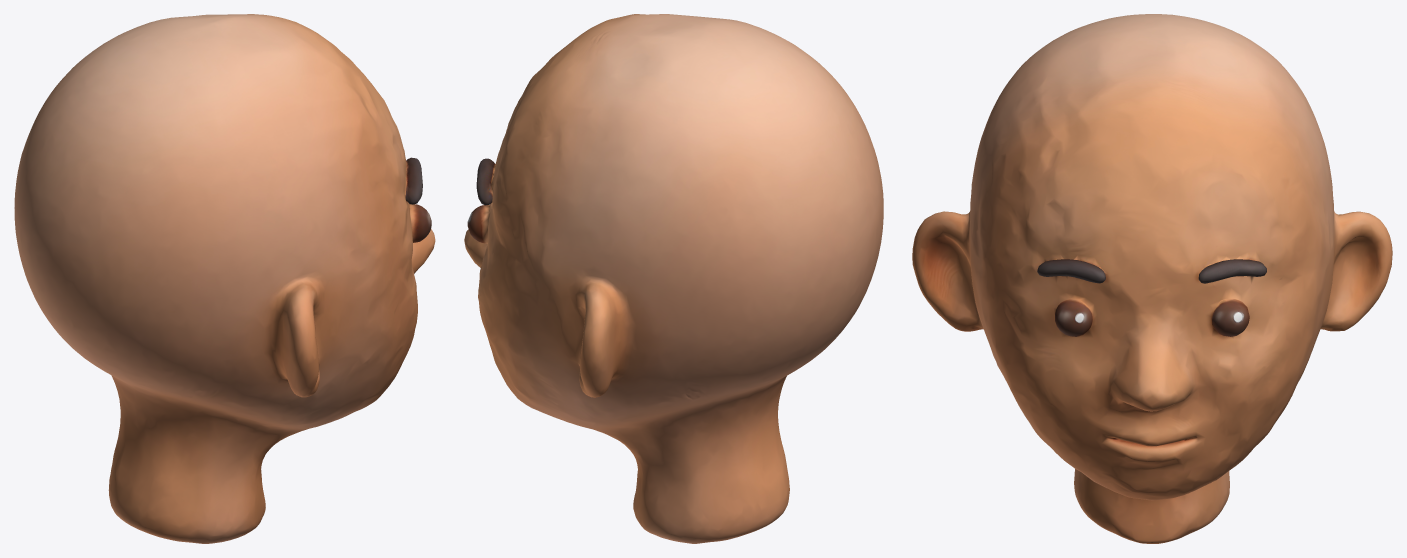
Rendered from head_boy.glb.
3 views of the same model, side by side, from view 1: azimuth 30°, elevation 25°; view 2: azimuth 150°, elevation 25°; view 3: azimuth 270°, elevation 25° (orthographic).
Parts seen in each view (by area): view 1: tripo_node_52db29cf-583f-400c-99e9-f9a09052bb2c; view 2: tripo_node_52db29cf-583f-400c-99e9-f9a09052bb2c; view 3: tripo_node_52db29cf-583f-400c-99e9-f9a09052bb2c.
Boxes of the visible parts, <box> form: tripo_node_52db29cf-583f-400c-99e9-f9a09052bb2c: <box>14,14,435,543</box>; tripo_node_52db29cf-583f-400c-99e9-f9a09052bb2c: <box>464,14,883,543</box>; tripo_node_52db29cf-583f-400c-99e9-f9a09052bb2c: <box>912,14,1392,543</box>.
Size of the model in its own units: 0.839 by 1 by 0.8846.
Materials: 1 (1 with a texture image).
